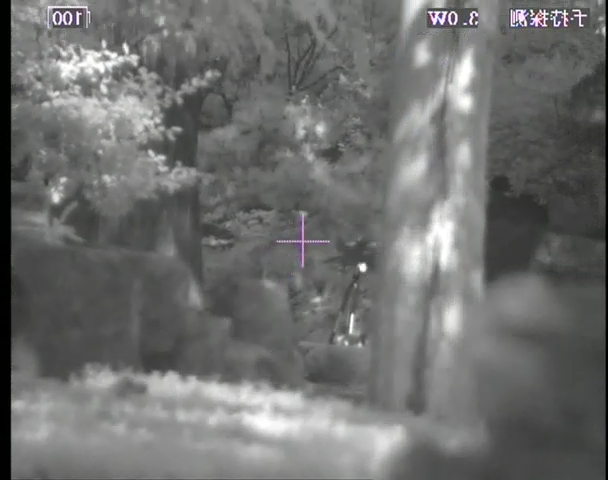my: (356, 261, 368, 274)
